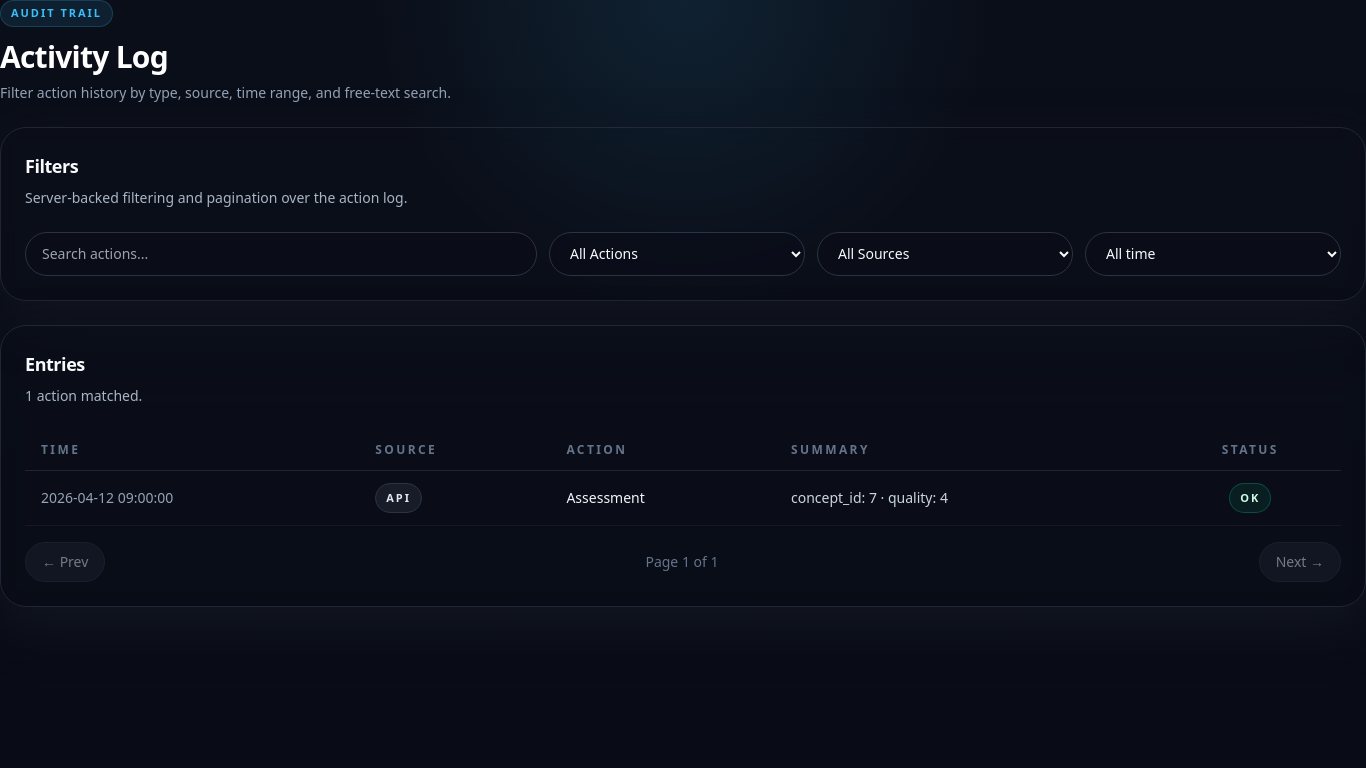
Test case: ActivityPage › renders action entries and expands row details
expect the heading "Activity Log" is shown: met, box [0,36,168,76]
Click the text "concept_id: 7 · quality: 4" at point(967, 498), box [775,470,1160,526]
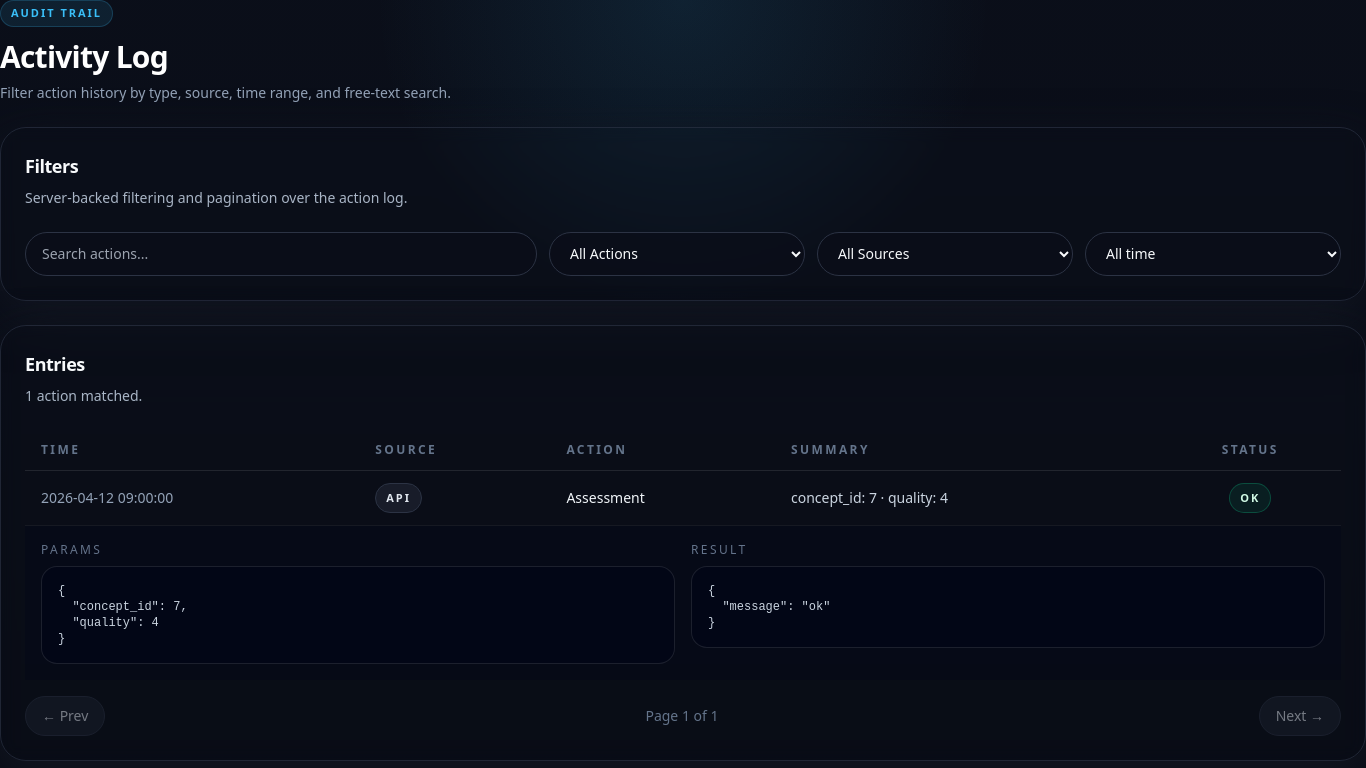
expect the text "{ \"concept_id\": 7, \"quality\": 4 }" is shown: met, box [41,566,675,664]
expect the text "{ \"message\": \"ok\" }" is shown: met, box [691,566,1325,648]
